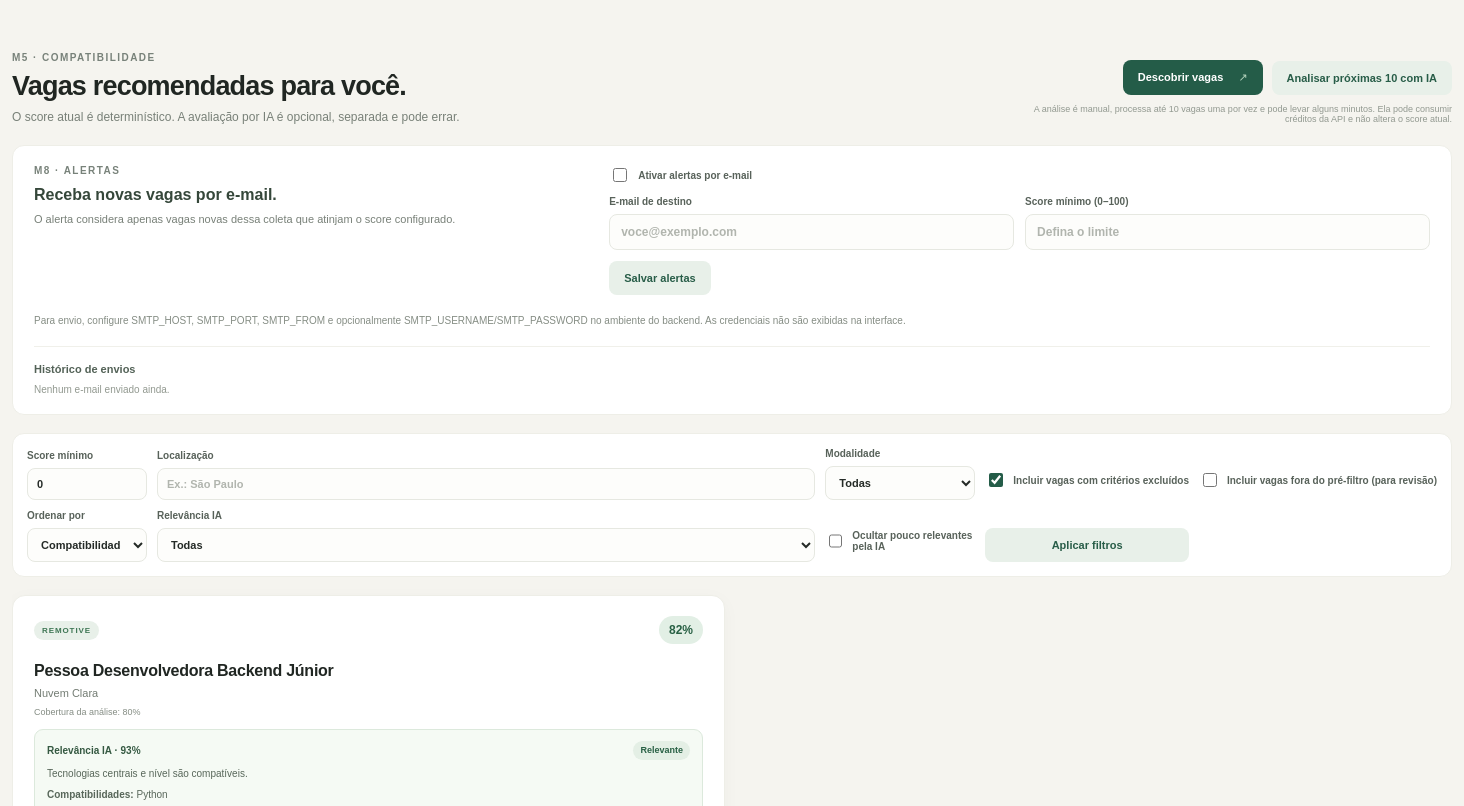
Test: recomendações de vagas M5 › explica quando JSearch e Jobicy são ignorados
Step 1. Click the button "Descobrir vagas ↗" → point(1193, 78), box [1123,60,1263,95]
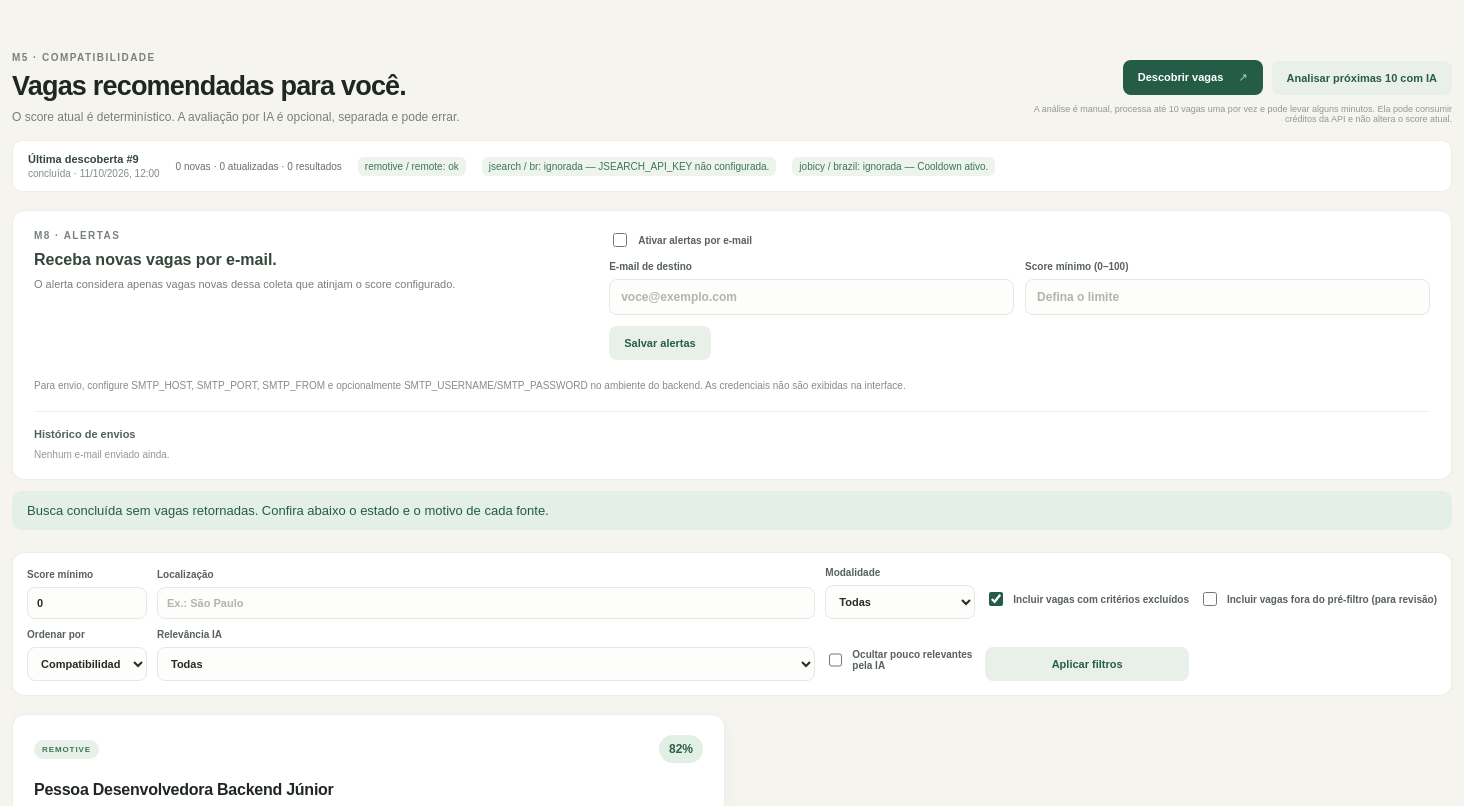
Expected: the element labelled "Última descoberta" shows "jsearch / br: ignorada — JSEARCH_API_KEY não configurada.", [12,140,1452,192]
Expected: the element labelled "Última descoberta" shows "jobicy / brazil: ignorada — Cooldown ativo.", [12,140,1452,192]
Expected: the message shows "Busca concluída sem vagas retornadas.", [27,503,549,518]
